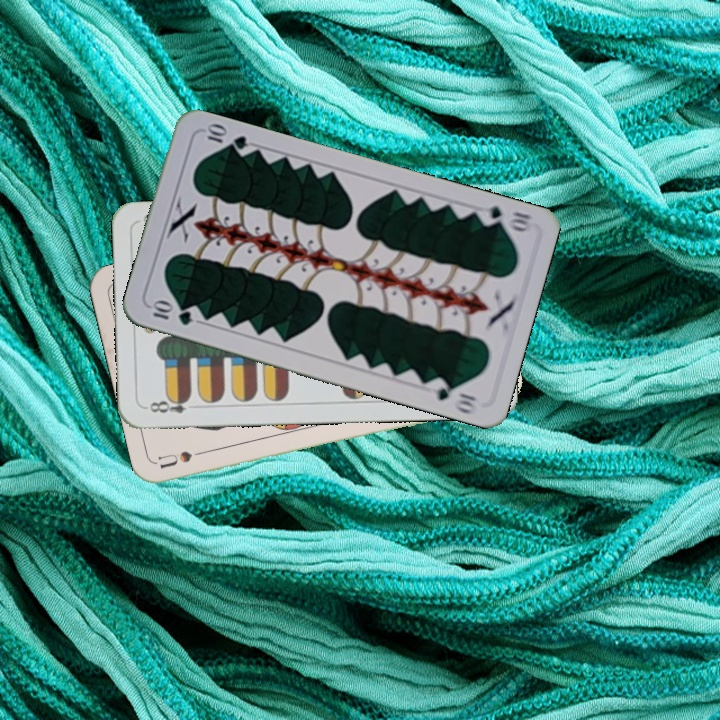E8: (142, 393, 193, 416)
G10: (474, 202, 536, 235), (146, 297, 196, 328)
SU: (155, 445, 214, 472)
